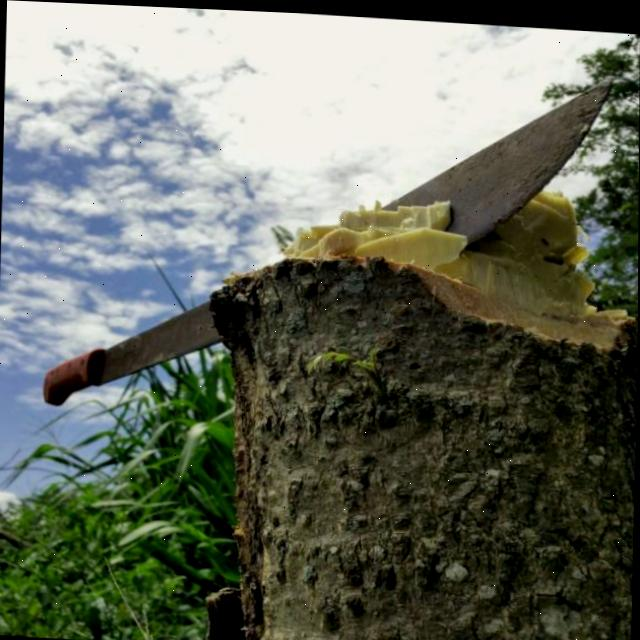long knife: (28, 42, 618, 457)
